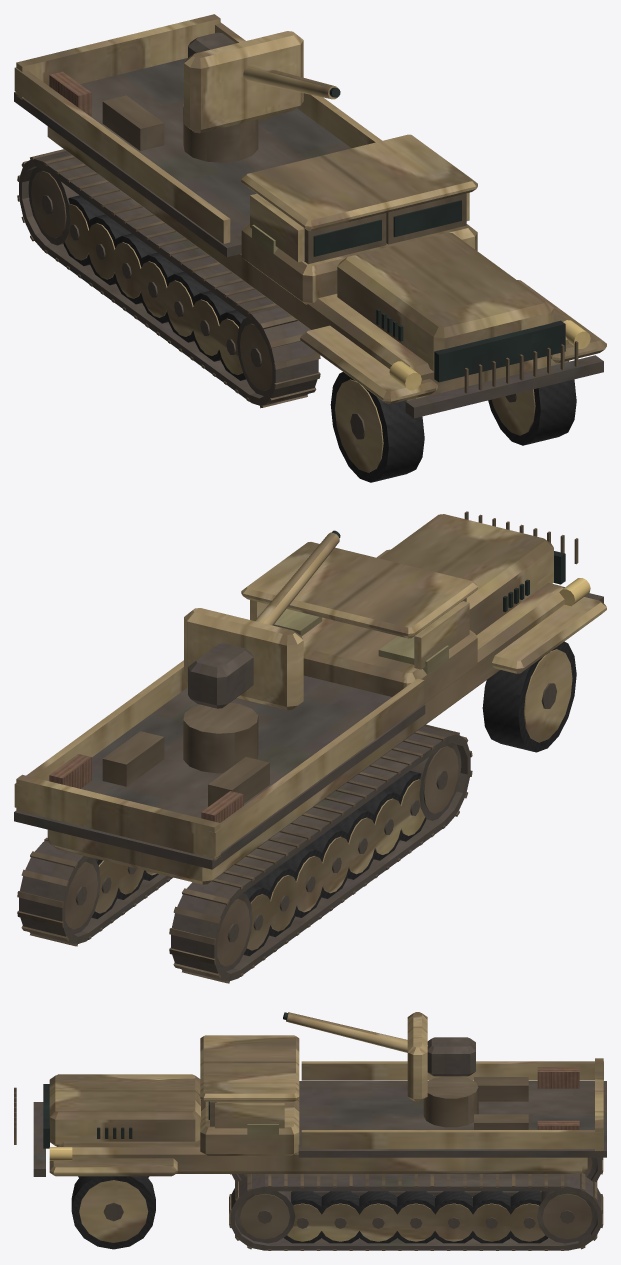
Rendered from flak37-halftrack.glb.
3 renders of one model, top to bottom at view 1: azimuth 30°, elevation 25°; view 2: azimuth 150°, elevation 25°; view 3: azimuth 270°, elevation 25°, orthographic. The views are drawn at different scales.
Parts seen in each view (by area): view 1: Sd.Kfz. 9 | Flak 37; view 2: Sd.Kfz. 9 | Flak 37; view 3: Sd.Kfz. 9 | Flak 37.
Boxes of the visible parts, x1,y1,x2,y2 form: Sd.Kfz. 9 | Flak 37: (14, 14, 606, 482); Sd.Kfz. 9 | Flak 37: (14, 511, 606, 983); Sd.Kfz. 9 | Flak 37: (14, 1012, 606, 1250).
Size of the model in its own units: 2.8 by 3.36 by 8.87.
Materials: 1 (1 with a texture image).
